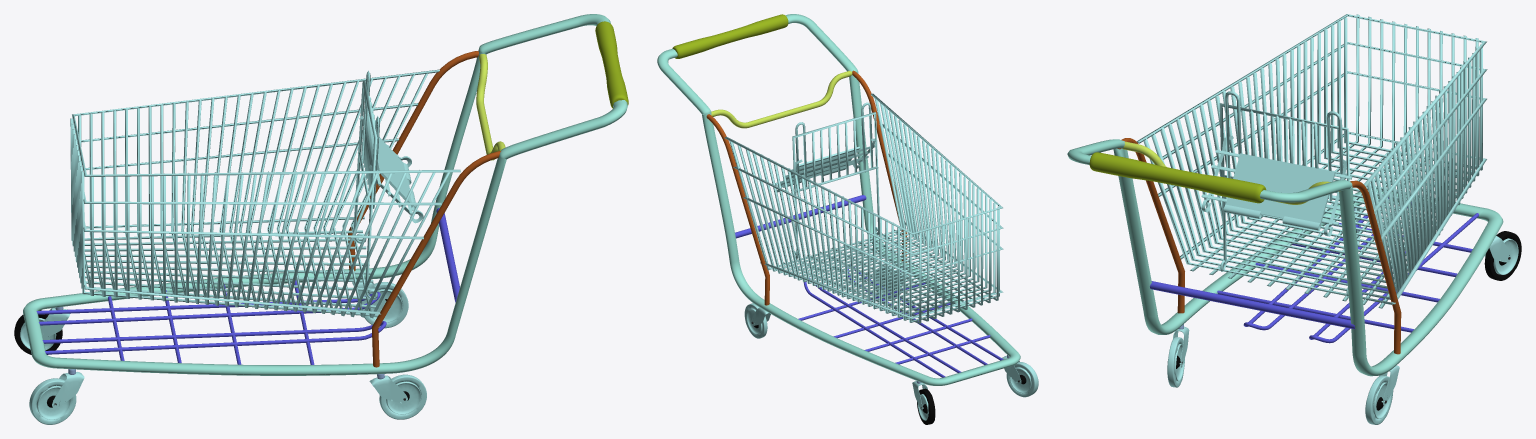
Rendered from shopcart.obj.
3 views of the same model, side by side, from view 1: azimuth 30°, elevation 25°; view 2: azimuth 150°, elevation 25°; view 3: azimuth 270°, elevation 25° (orthographic). The views are drawn at different scales.
Parts seen in each view (by area): view 1: fgh, Rectangle001, Rectangle002, hjhj, Line011, Cylinder012, Line010, o, Line028, Loft006, Loft007, Shape001 (+4 smaller); view 2: fgh, Rectangle001, Rectangle002, hjhj, Cylinder012, Line028, Line010, l, Line011, Shape001, o, Loft006; view 3: fgh, Rectangle001, o, Rectangle002, hjhj, Cylinder012, Shape001, Line010, Line011, l, Loft05, Loft008 (+3 smaller).
Part boxes in pixels (<box>): fgh: <box>70,69,460,318</box>; Rectangle001: <box>23,14,627,375</box>; Rectangle002: <box>36,280,386,364</box>; hjhj: <box>353,70,379,299</box>; Line011: <box>371,151,500,367</box>; Cylinder012: <box>595,21,628,108</box>; Line010: <box>348,51,478,271</box>; o: <box>377,137,416,210</box>; Line028: <box>476,54,505,160</box>; Loft006: <box>29,378,76,424</box>; Loft007: <box>379,374,426,419</box>; Shape001: <box>436,208,459,302</box>; fgh: <box>724,93,1003,323</box>; Rectangle001: <box>657,14,1020,385</box>; Rectangle002: <box>798,265,1003,377</box>; hjhj: <box>792,102,879,259</box>; Cylinder012: <box>672,14,788,58</box>; Line028: <box>711,70,852,128</box>; Line010: <box>706,114,769,305</box>; l: <box>775,138,875,192</box>; Line011: <box>852,70,906,262</box>; Shape001: <box>735,195,866,238</box>; o: <box>783,146,859,187</box>; Loft006: <box>1006,362,1038,397</box>; fgh: <box>1136,14,1487,308</box>; Rectangle001: <box>1067,139,1503,376</box>; o: <box>1223,153,1335,230</box>; Rectangle002: <box>1217,197,1478,343</box>; hjhj: <box>1219,91,1349,296</box>; Cylinder012: <box>1089,152,1266,203</box>; Shape001: <box>1150,281,1355,329</box>; Line010: <box>1350,180,1401,354</box>; Line011: <box>1117,138,1184,313</box>; l: <box>1201,135,1352,236</box>; Loft05: <box>1484,231,1521,280</box>; Loft008: <box>1365,375,1393,424</box>.
Size of the model in its own units: 142 by 78.09 by 99.11.
